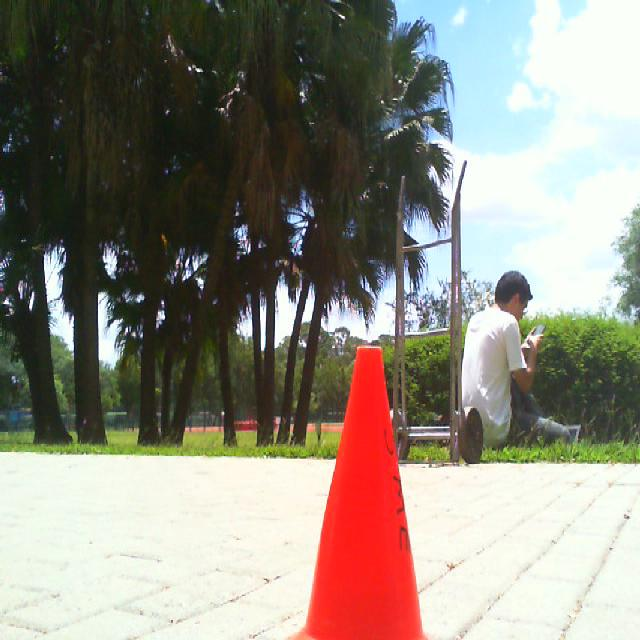cone: (289, 345, 427, 640)
